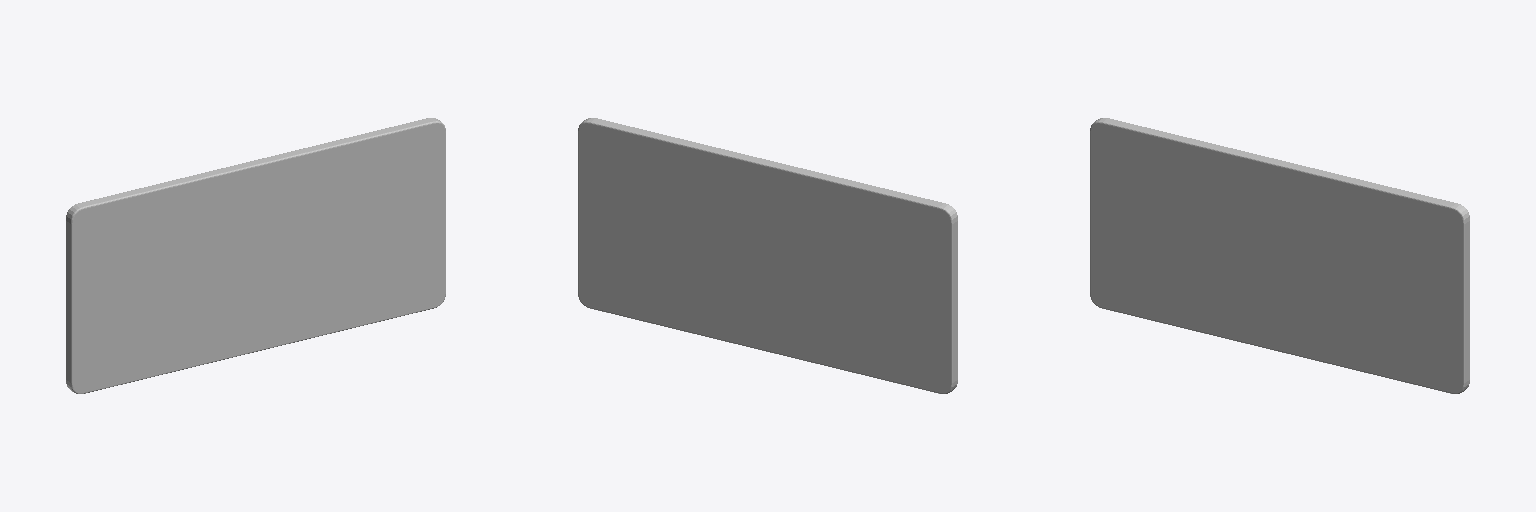
The model's file is table.obj.
The picture shows the model from 3 angles: view 1: azimuth 30°, elevation 25°; view 2: azimuth 150°, elevation 25°; view 3: azimuth 330°, elevation 25°; orthographic projection.
Parts seen in each view (by area): view 1: table_top; view 2: table_top; view 3: table_top.
Part boxes in pixels (x1,y1,x2,y2): table_top: (66,118,445,393); table_top: (578,118,957,393); table_top: (1090,118,1469,393).
Size of the model in its own units: 703 by 335 by 20.